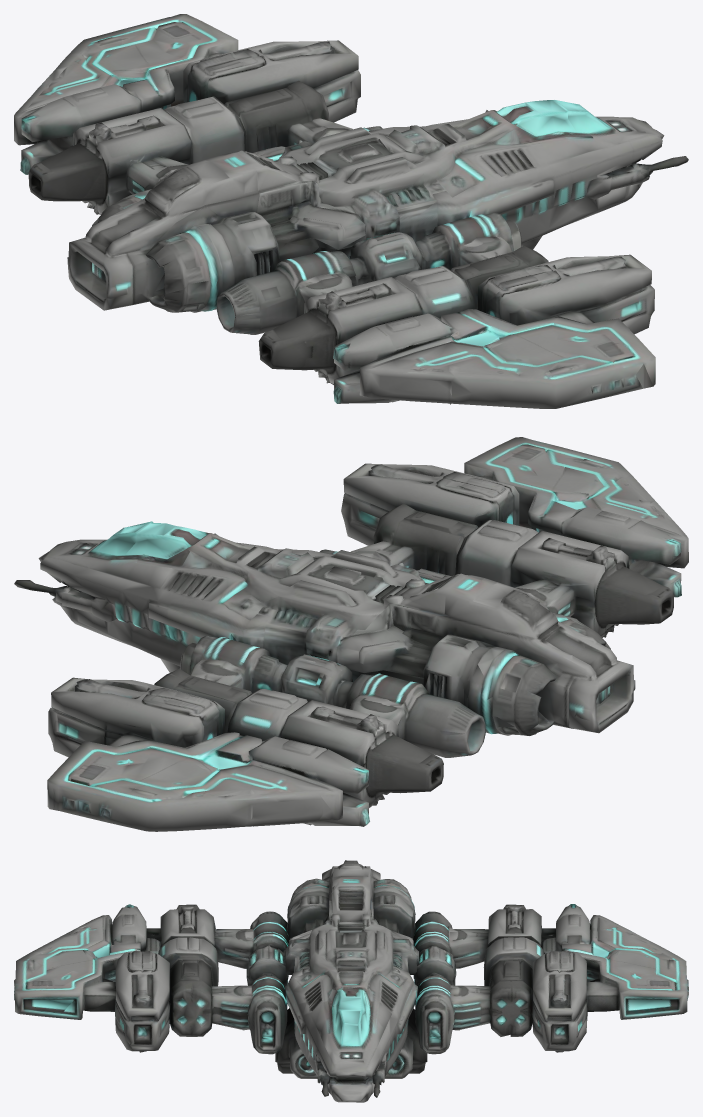
Rendered from Nave10.glb.
3 renders of one model, top to bottom at view 1: azimuth 30°, elevation 25°; view 2: azimuth 150°, elevation 25°; view 3: azimuth 270°, elevation 25°, orthographic. The views are drawn at different scales.
Visible parts, largest first — view 1: tripo_part_0, tripo_part_4, tripo_part_1, tripo_part_3, tripo_part_2, tripo_part_5, tripo_part_10; view 2: tripo_part_0, tripo_part_3, tripo_part_2, tripo_part_4, tripo_part_1, tripo_part_8, tripo_part_9; view 3: tripo_part_0, tripo_part_3, tripo_part_4, tripo_part_1, tripo_part_2, tripo_part_5, tripo_part_8, tripo_part_6, tripo_part_7, tripo_part_9.
Boxes of the visible parts, bbox=[...] form: tripo_part_0: bbox=[67, 100, 688, 312]; tripo_part_4: bbox=[333, 254, 655, 408]; tripo_part_1: bbox=[216, 212, 548, 384]; tripo_part_3: bbox=[14, 14, 360, 174]; tripo_part_2: bbox=[28, 80, 382, 214]; tripo_part_5: bbox=[145, 194, 318, 312]; tripo_part_10: bbox=[271, 180, 365, 249]; tripo_part_0: bbox=[14, 521, 635, 735]; tripo_part_3: bbox=[47, 677, 369, 831]; tripo_part_2: bbox=[154, 634, 485, 807]; tripo_part_4: bbox=[341, 437, 688, 597]; tripo_part_1: bbox=[320, 503, 673, 637]; tripo_part_8: bbox=[336, 604, 514, 734]; tripo_part_9: bbox=[477, 641, 556, 735]; tripo_part_0: bbox=[283, 860, 418, 1102]; tripo_part_3: bbox=[532, 904, 688, 1052]; tripo_part_4: bbox=[14, 904, 170, 1052]; tripo_part_1: bbox=[158, 904, 293, 1054]; tripo_part_2: bbox=[413, 904, 543, 1054]; tripo_part_5: bbox=[287, 878, 330, 939]; tripo_part_8: bbox=[371, 892, 415, 944]; tripo_part_6: bbox=[384, 1008, 427, 1078]; tripo_part_7: bbox=[275, 1008, 317, 1078]; tripo_part_9: bbox=[373, 879, 414, 906].
Bounding box in the file's own units: 0.695 × 0.2206 × 0.9848.
1 material, 1 textured.
